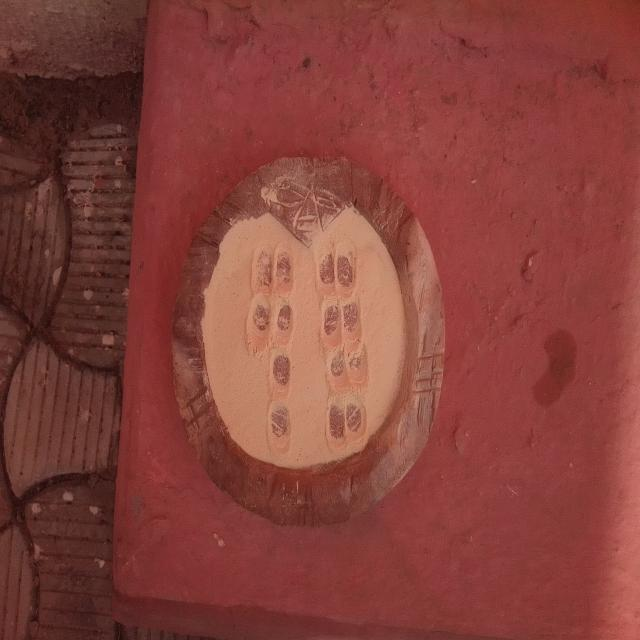double: (312, 235, 361, 298), (246, 292, 296, 352), (248, 239, 296, 296), (324, 393, 369, 453), (322, 342, 372, 392), (316, 294, 364, 346)
single: (264, 400, 296, 458), (264, 350, 300, 400)
